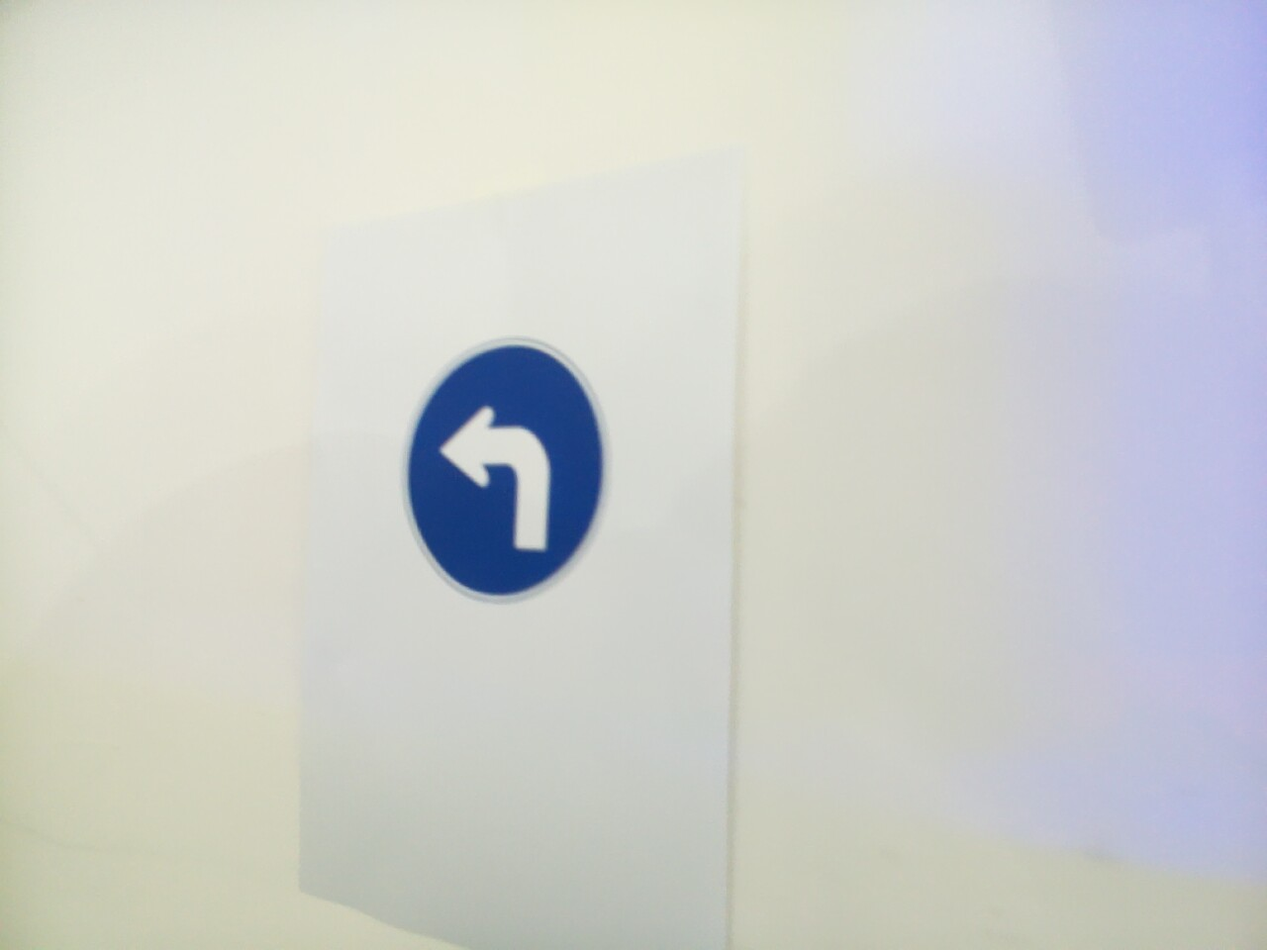left_turn: (400, 336, 611, 605)
